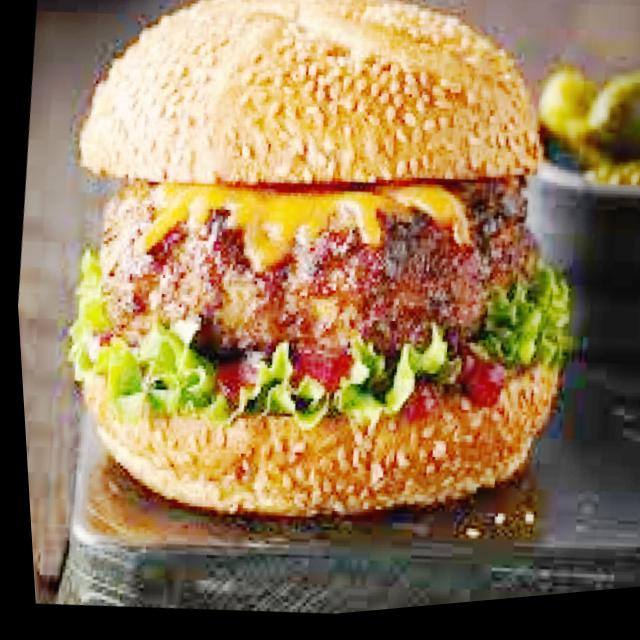burger: (26, 0, 618, 563)
